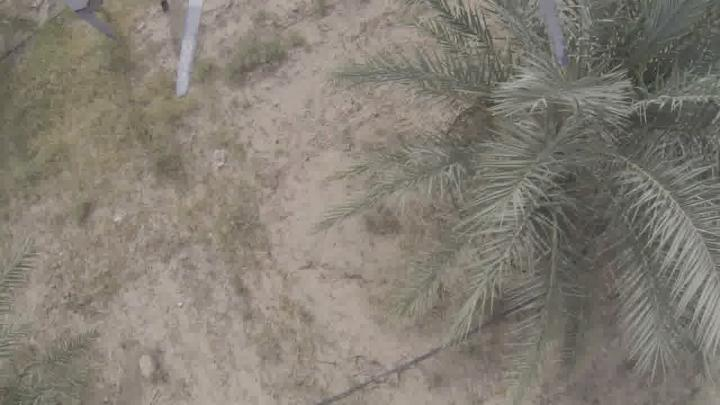Date-Palm-Crown: (472, 0, 719, 260)
